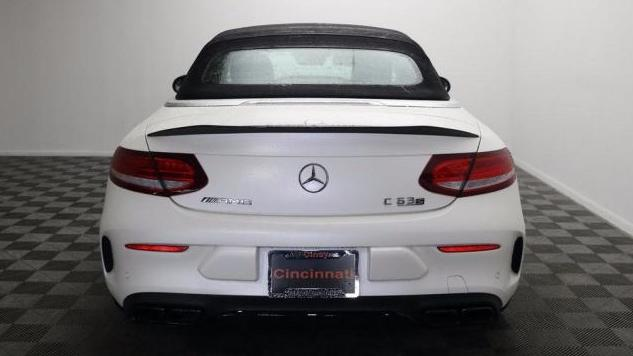C63AMG: (91, 18, 533, 315)
